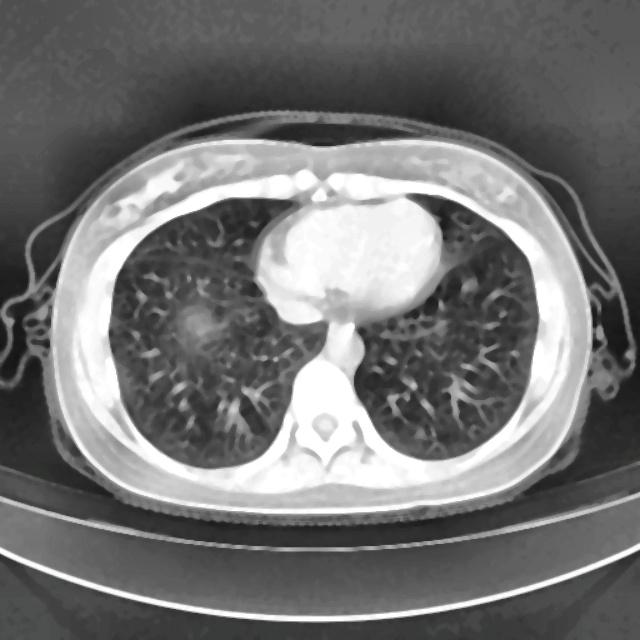covid: (11, 115, 631, 527)
